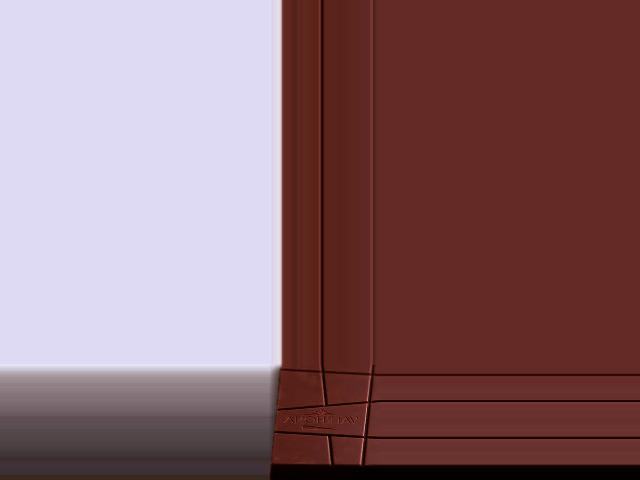chocolate: (268, 364, 380, 470)
